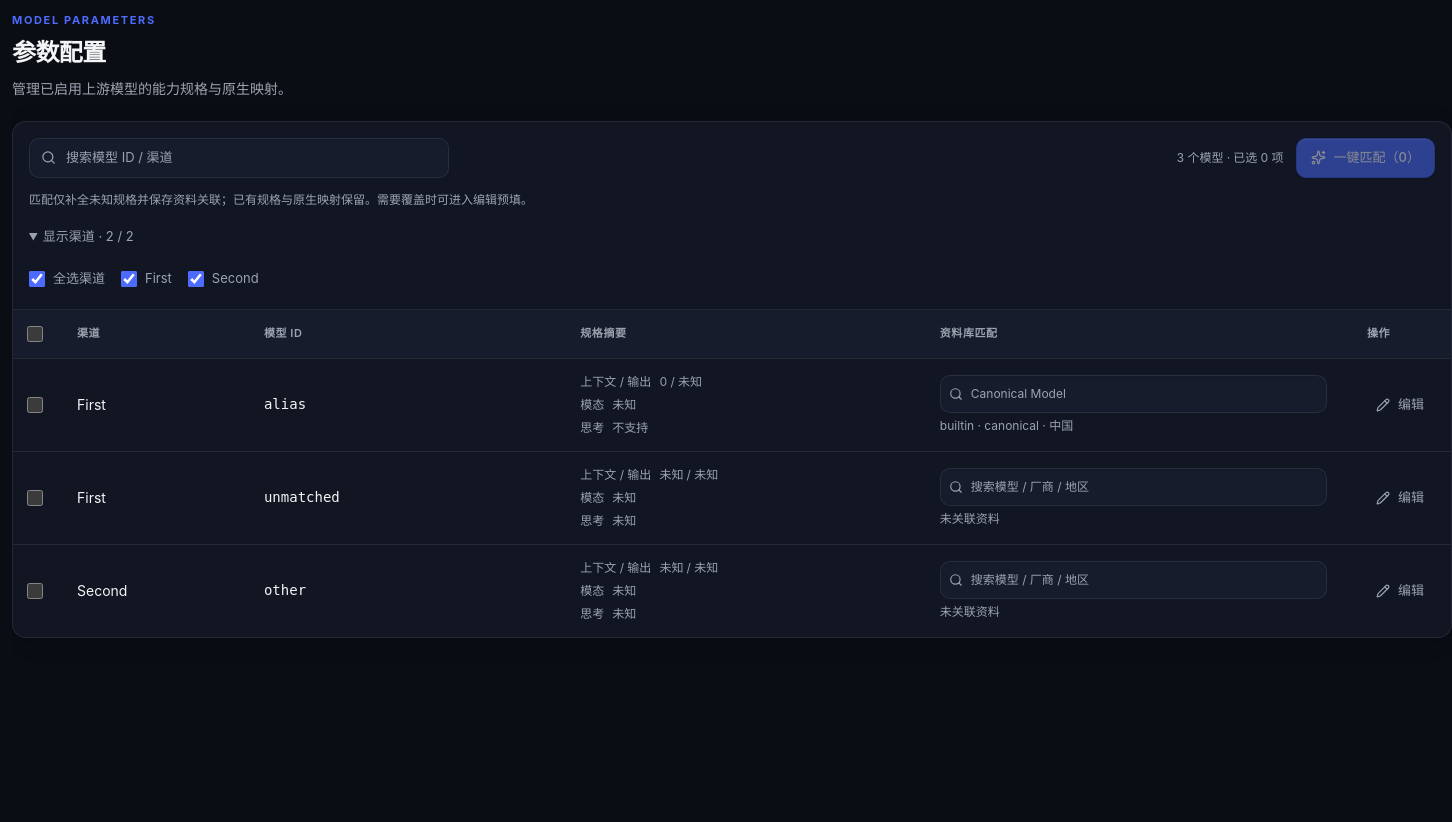
Test case: discards late previews when channels changes, even if the original scope is restored
Expected: the dropdown named "搜索规格资料 1:alias" is shown, x1=940 y1=375 x2=1327 y2=413
What coordinates should you click on to do the following:
click the checkbox named "全选可见模型"
I would click on:
 (35, 334)
Its box is x1=27 y1=326 x2=43 y2=342.
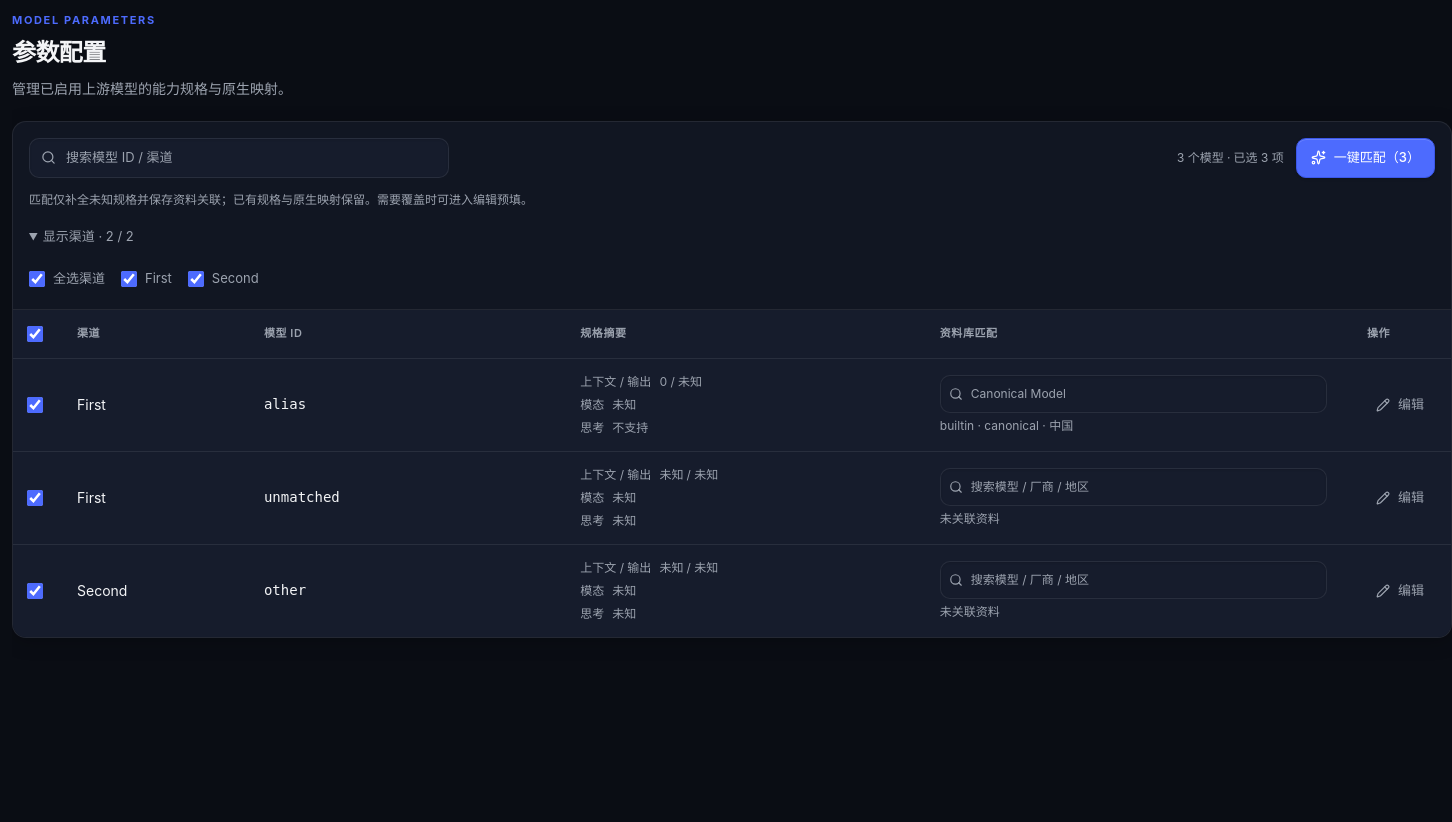
What coordinates should you click on to do the following:
click the button "一键匹配（3）"
I would click on:
 (1365, 158)
Its box is x1=1296 y1=138 x2=1435 y2=178.
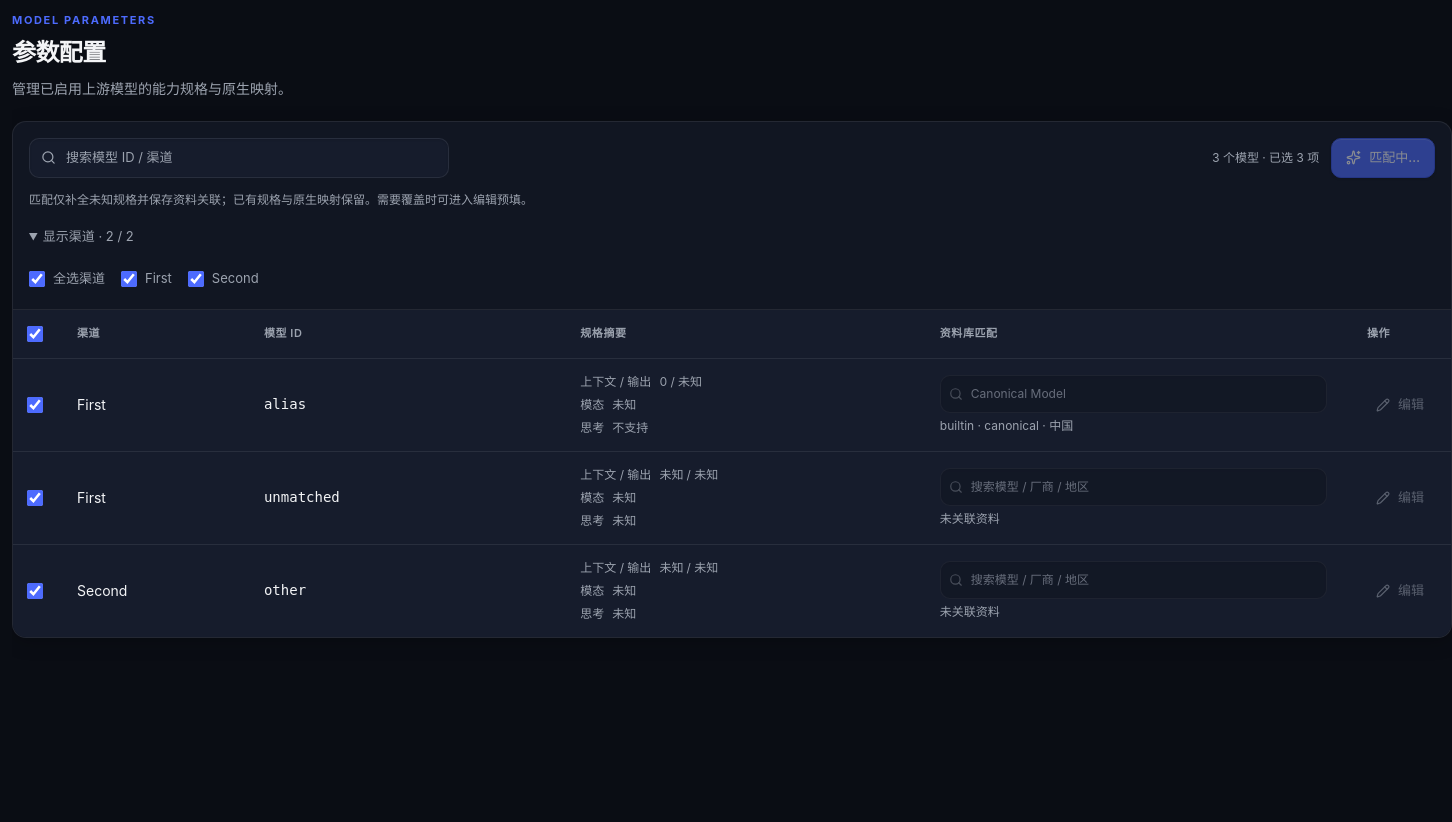
What coordinates should you click on to do the following:
click the checkbox named "显示渠道 Second"
I would click on:
 (196, 279)
Its box is x1=188 y1=271 x2=204 y2=287.
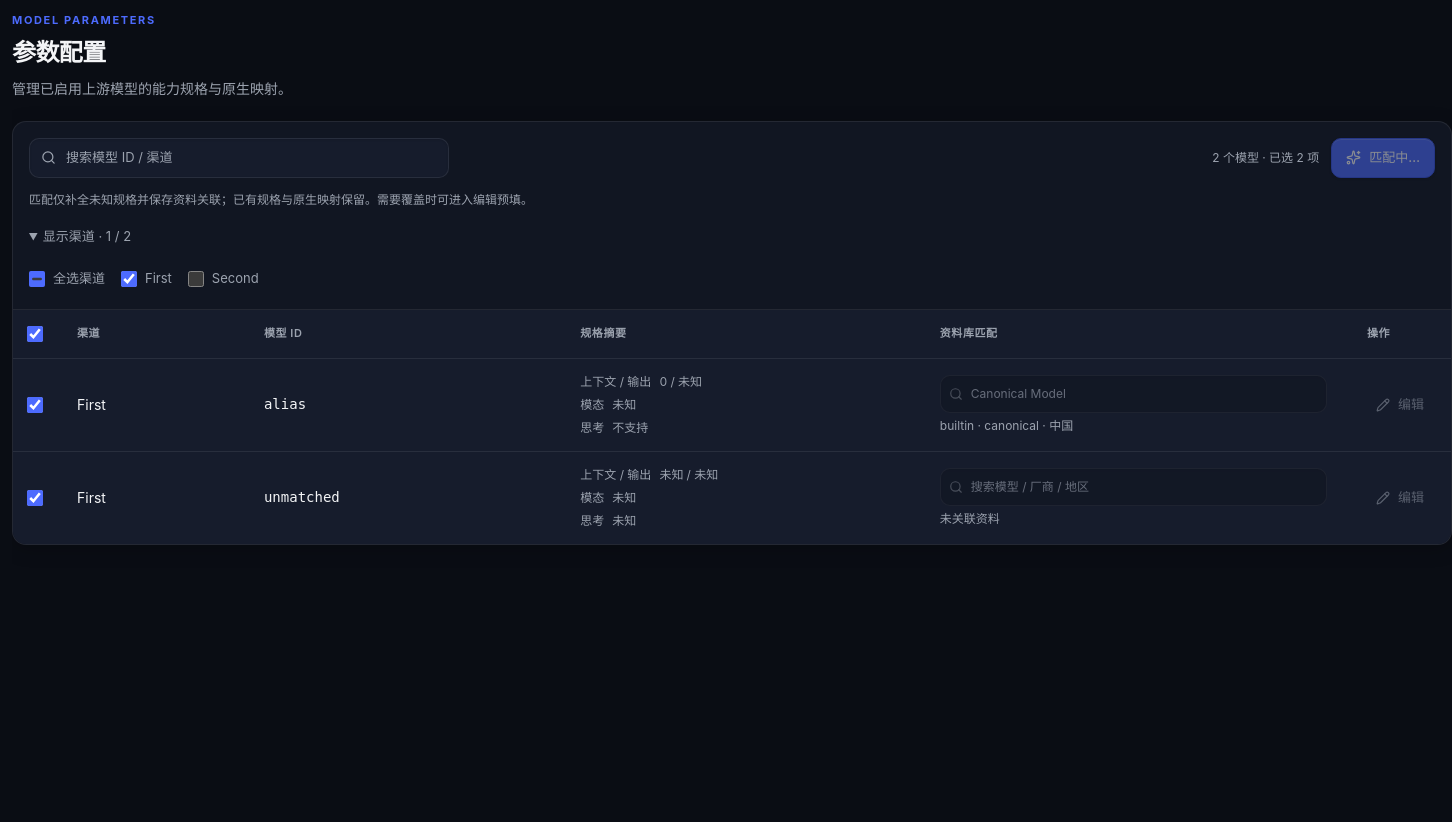
What coordinates should you click on to do the following:
click the checkbox named "显示渠道 Second"
I would click on:
 (196, 279)
Its box is x1=188 y1=271 x2=204 y2=287.
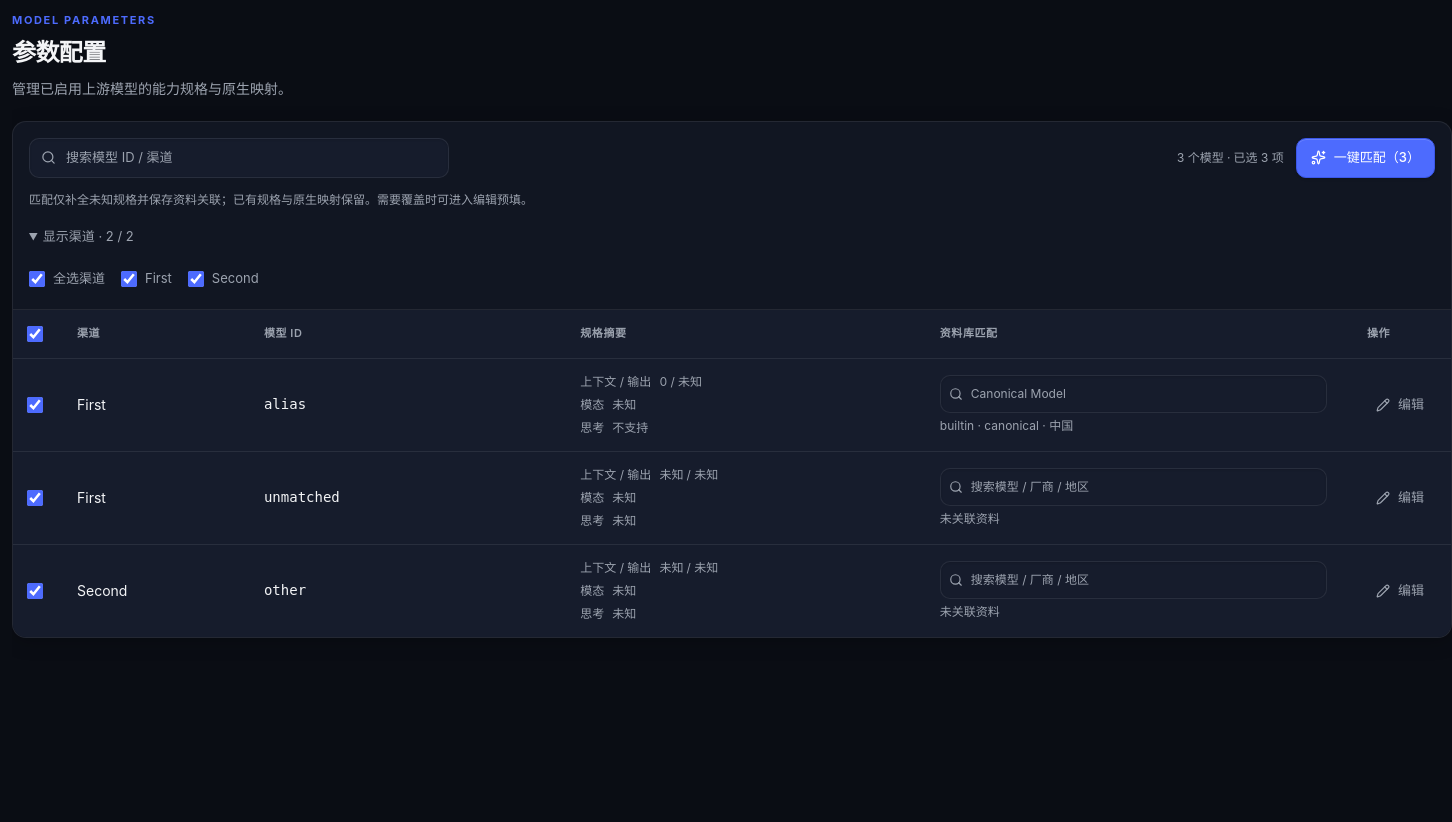
Result: the button "一键匹配（3）" is enabled at x1=1296 y1=138 x2=1435 y2=178
